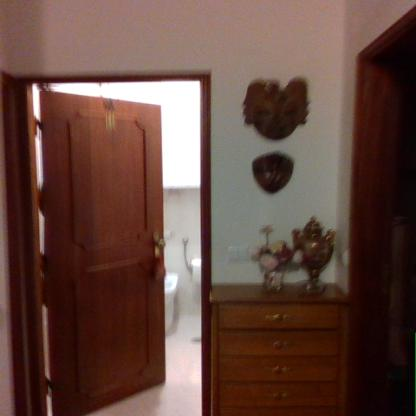semi: (0, 62, 224, 416)
